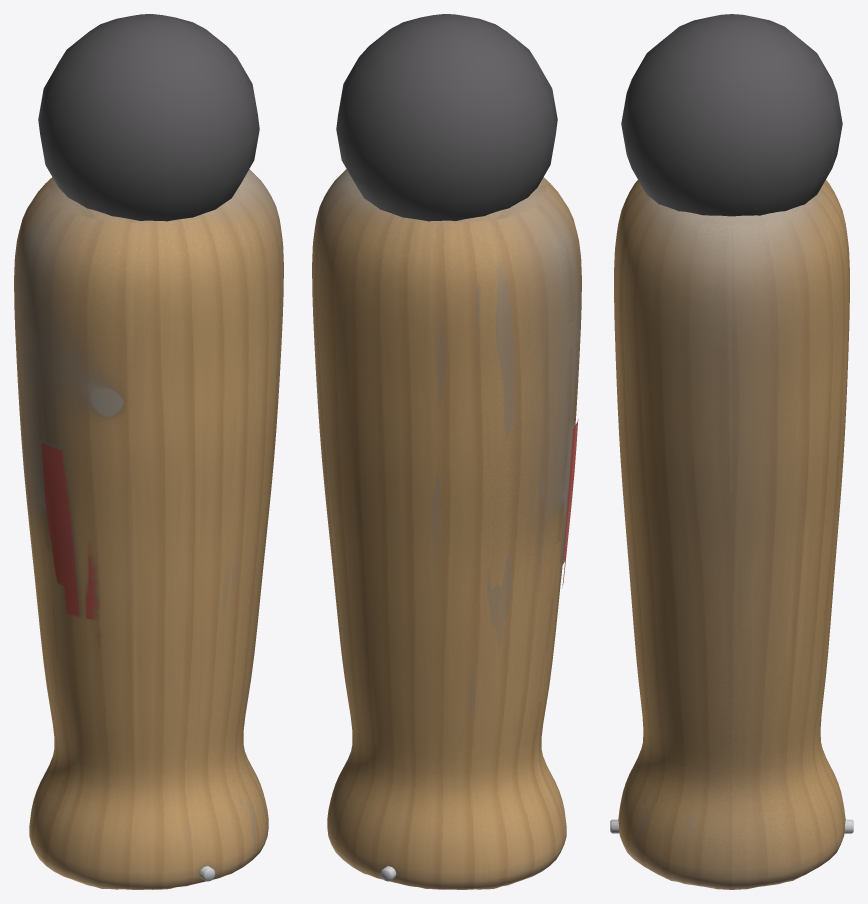
Rendered from UpperLeg_R.glb.
The picture shows the model from 3 angles, left to right: view 1: azimuth 30°, elevation 25°; view 2: azimuth 150°, elevation 25°; view 3: azimuth 270°, elevation 25°; orthographic projection.
Parts seen in each view (by area): view 1: UpperLeg_R, UpperLeg_R_Ball, UpperLeg_R_Paint; view 2: UpperLeg_R, UpperLeg_R_Ball, UpperLeg_R_Paint; view 3: UpperLeg_R, UpperLeg_R_Ball.
Boxes of the visible parts, x1=… form: UpperLeg_R: x1=14, y1=169, x2=283, y2=889; UpperLeg_R_Ball: x1=38, y1=14, x2=259, y2=221; UpperLeg_R_Paint: x1=41, y1=443, x2=100, y2=647; UpperLeg_R: x1=312, y1=169, x2=581, y2=889; UpperLeg_R_Ball: x1=336, y1=14, x2=557, y2=221; UpperLeg_R_Paint: x1=562, y1=419, x2=578, y2=587; UpperLeg_R: x1=614, y1=180, x2=849, y2=889; UpperLeg_R_Ball: x1=621, y1=14, x2=842, y2=216.
Size of the model in its own units: 0.1509 by 0.4905 by 0.132.
4 materials, 2 textured.
